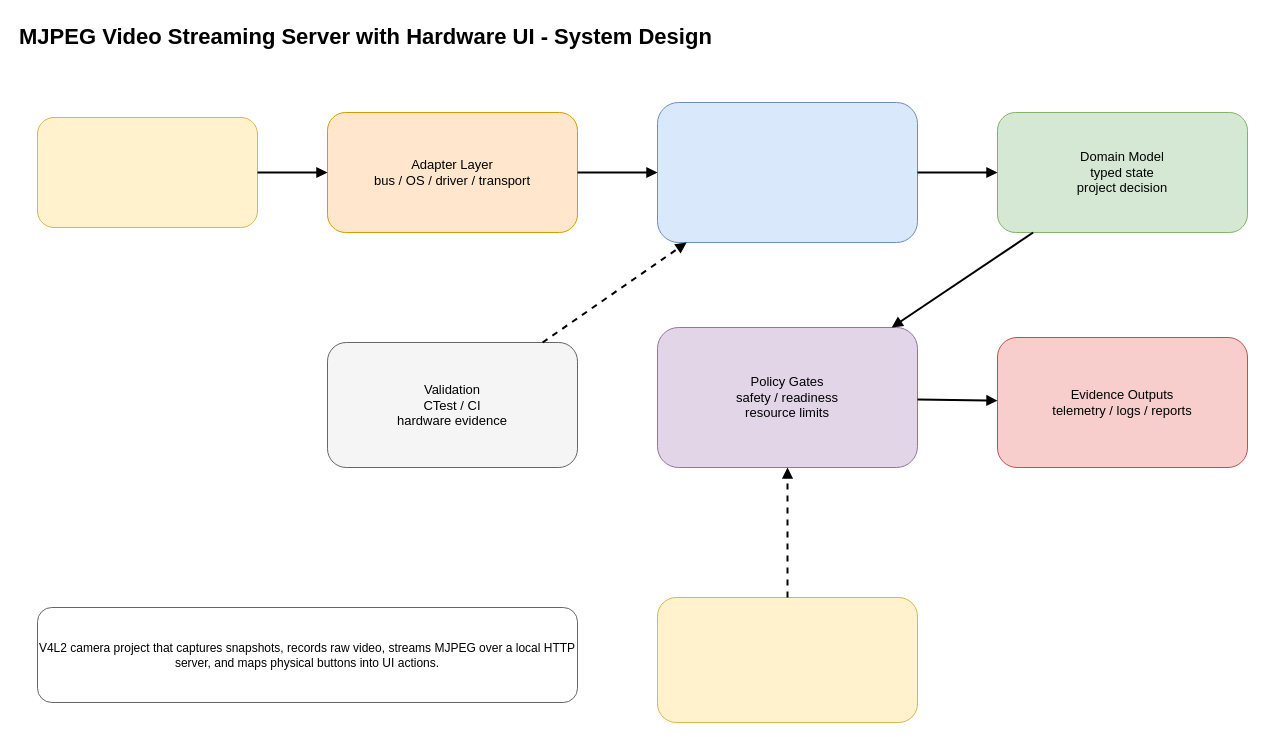
Image size: 1265x740. Some labels were removed from this diagram. Here are the shapes that lost their labels. From the top down, the centre of each, then its label:
(147,172): Input Sources hardware / simulator / commands
(787,172): Runtime Orchestrator C++17 facade dependency injection
(787,659): Roadmap design / host runtime target adapters / evidence
